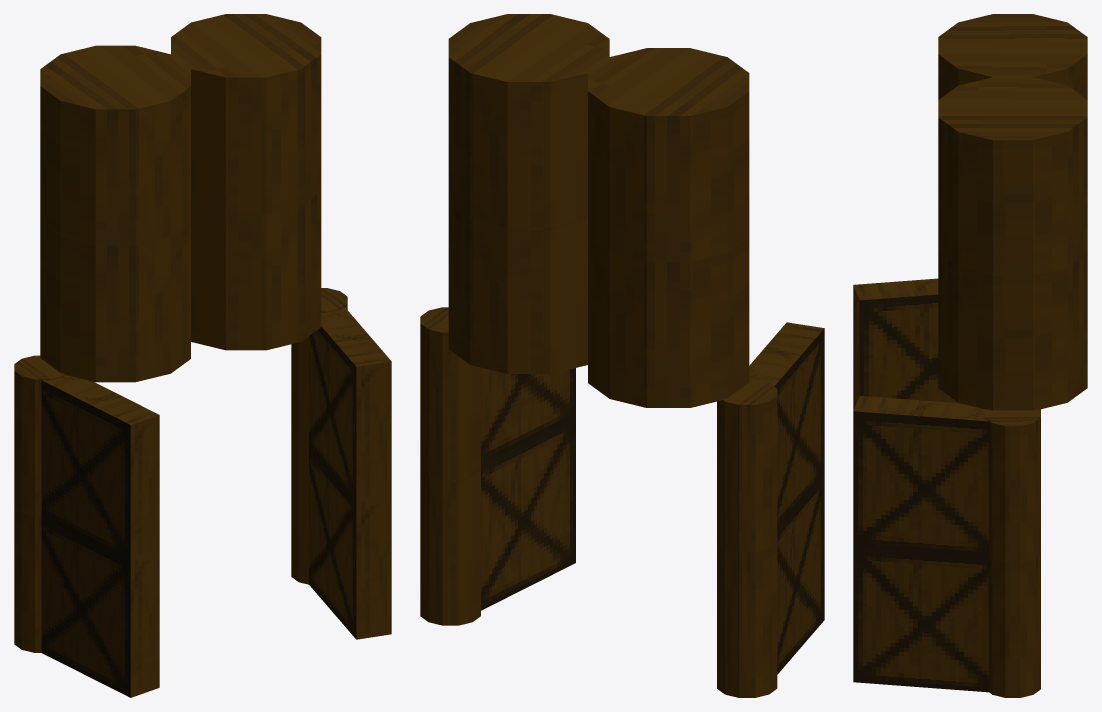
The model's file is WallGateOpen.obj.
The picture shows the model from 3 angles, left to right: view 1: azimuth 30°, elevation 25°; view 2: azimuth 150°, elevation 25°; view 3: azimuth 270°, elevation 25°; orthographic projection. The views are drawn at different scales.
Visible parts, largest first — view 1: cylinder, cuboid; view 2: cylinder, cuboid; view 3: cylinder, cuboid.
Part boxes in pixels (<box>): cylinder: <box>14,14,347,652</box>; cuboid: <box>41,306,391,697</box>; cylinder: <box>420,14,777,697</box>; cuboid: <box>481,322,824,674</box>; cylinder: <box>938,14,1087,697</box>; cuboid: <box>853,278,988,692</box>.
Bounding box in the file's own units: 2.5 × 4 × 1.57.
